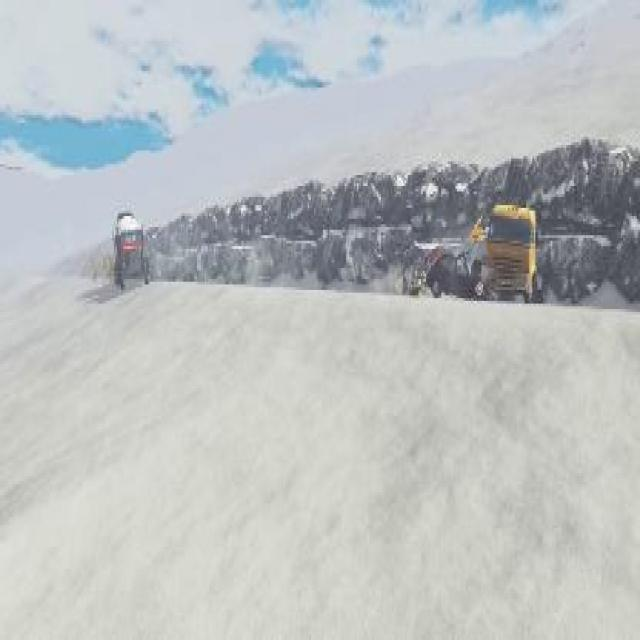accident: (423, 197, 542, 298)
